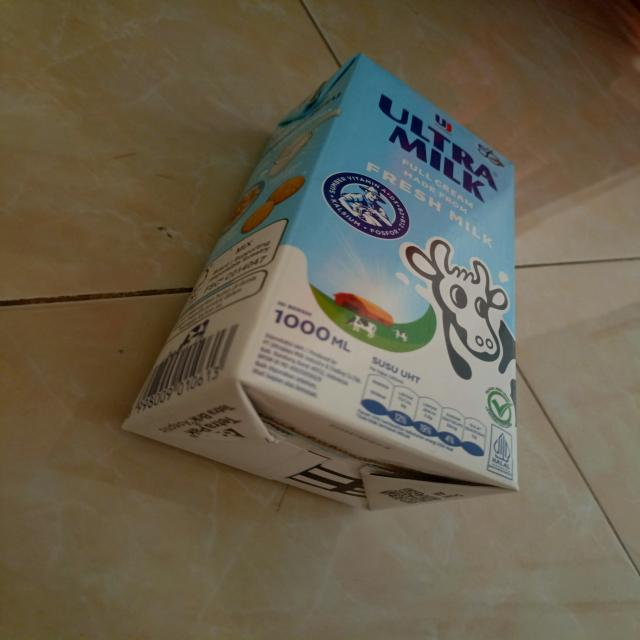ultramilk-full-cream: (124, 51, 519, 514)
